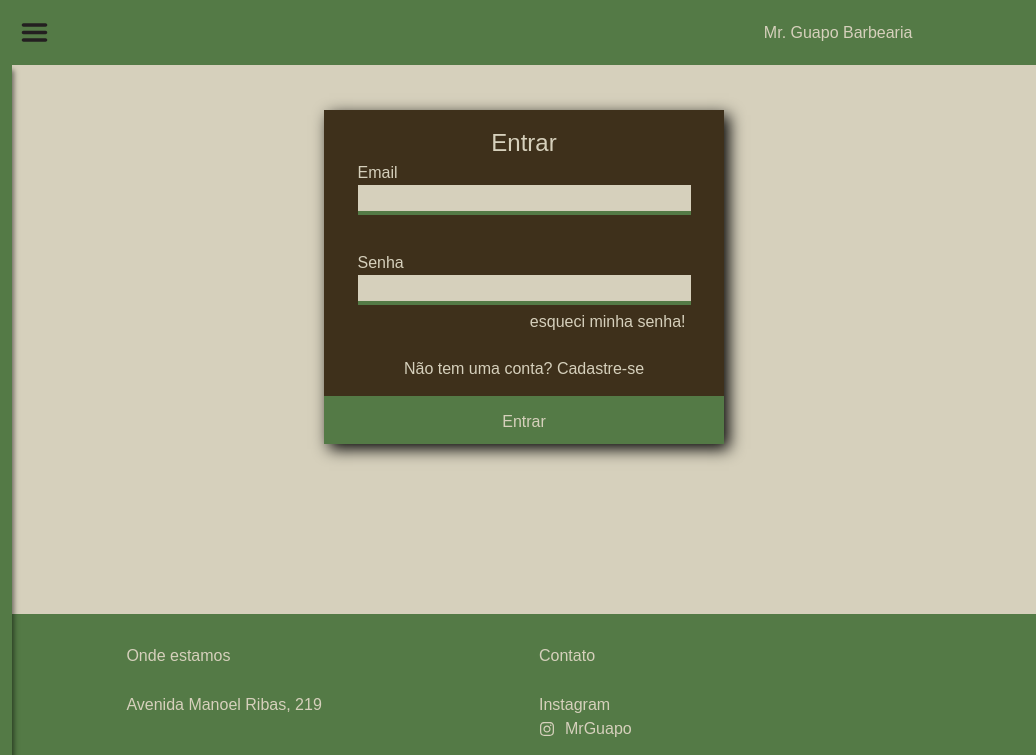
Test: Fluxo de Login do Usuário › deve exibir uma mensagem de erro para credenciais inválidas
This screenshot has width=1036, height=755.
In the field with id "email": (525, 200) [358,185,691,215], type "invalid@test.com"
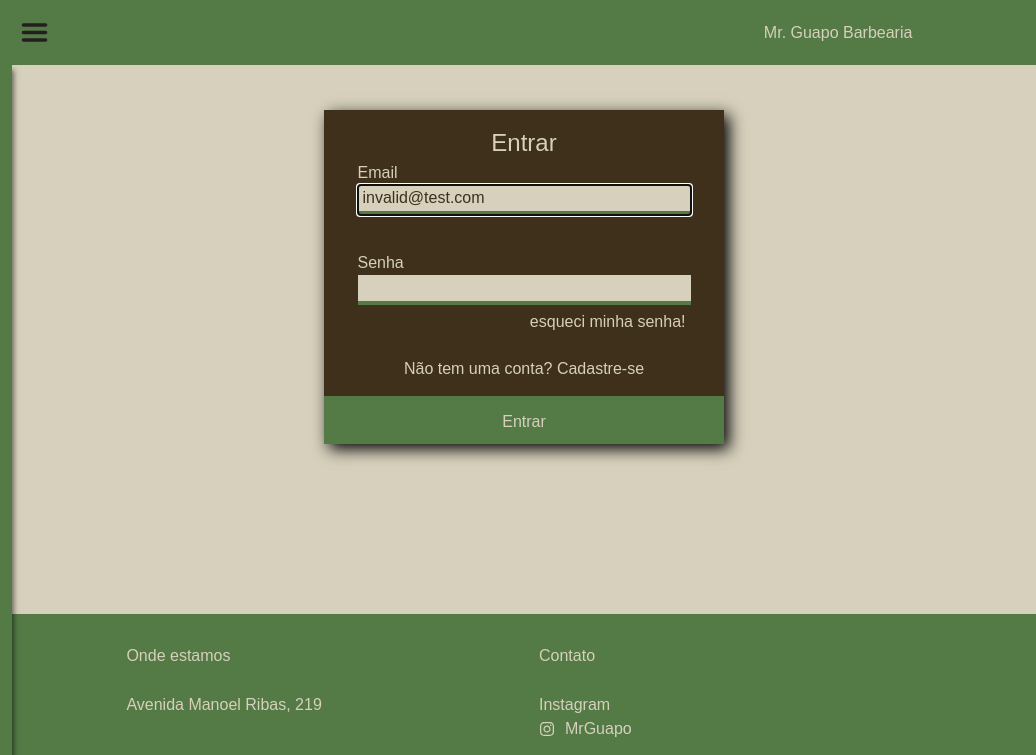
In the password field labelled "Senha": (525, 290) [358,275,691,305], type "wrongpassword"
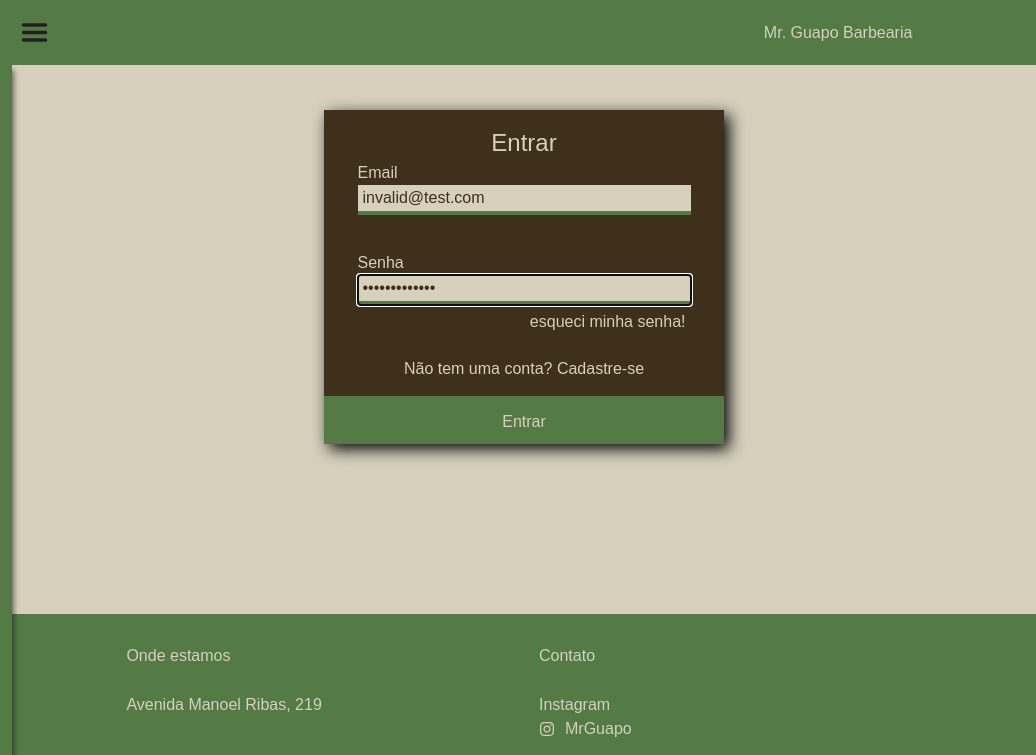
Click the button with class "submit-button-login": (524, 422) [324,400,724,444]
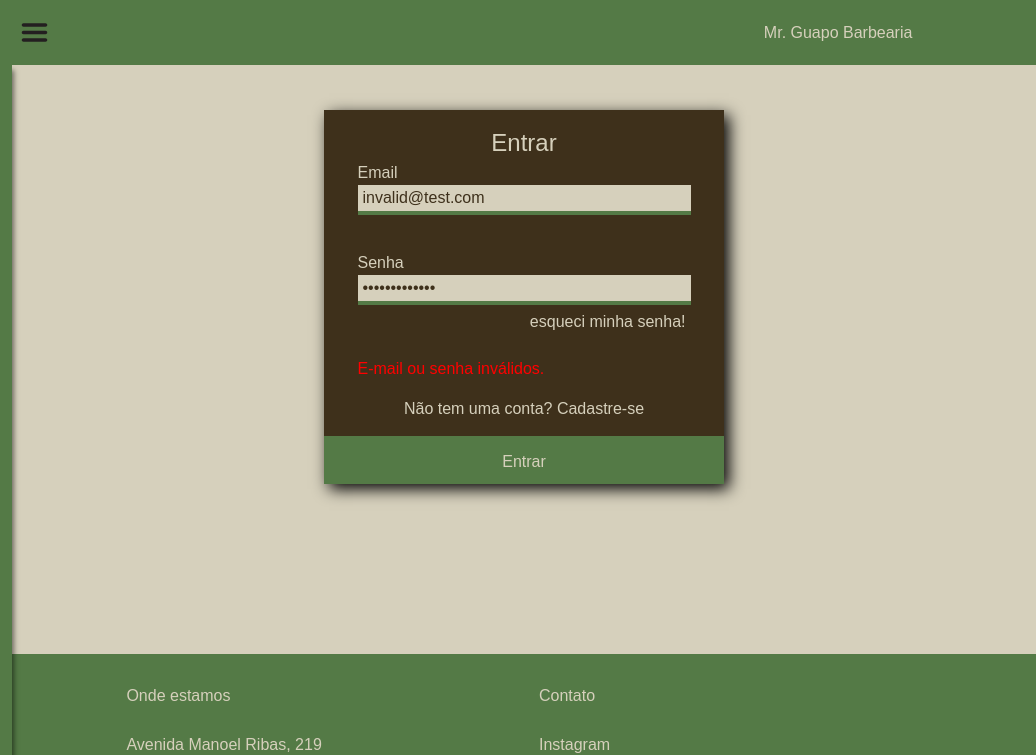
Now the text "E-mail ou senha inválidos." is shown, box [358,360,544,377]
Now the text with class "server-error-message" reads "E-mail ou senha inválidos.", box [358,360,545,377]
